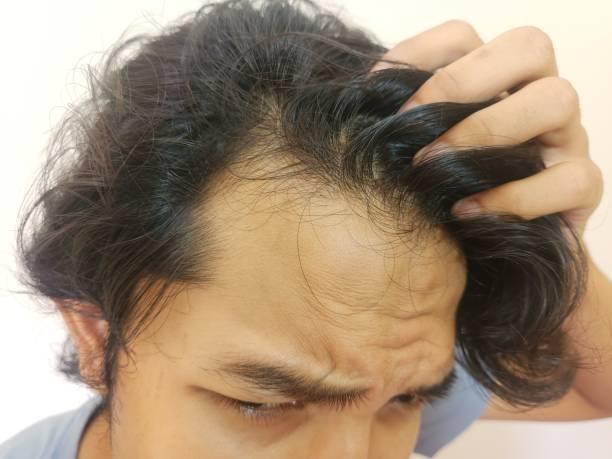dry hair: (99, 115, 201, 186), (217, 39, 309, 85), (127, 63, 199, 95), (43, 217, 115, 248), (139, 208, 187, 247), (292, 101, 339, 138), (229, 9, 288, 27)
low hair density: (251, 93, 285, 162), (327, 113, 353, 183), (367, 151, 387, 186), (397, 181, 417, 214)
